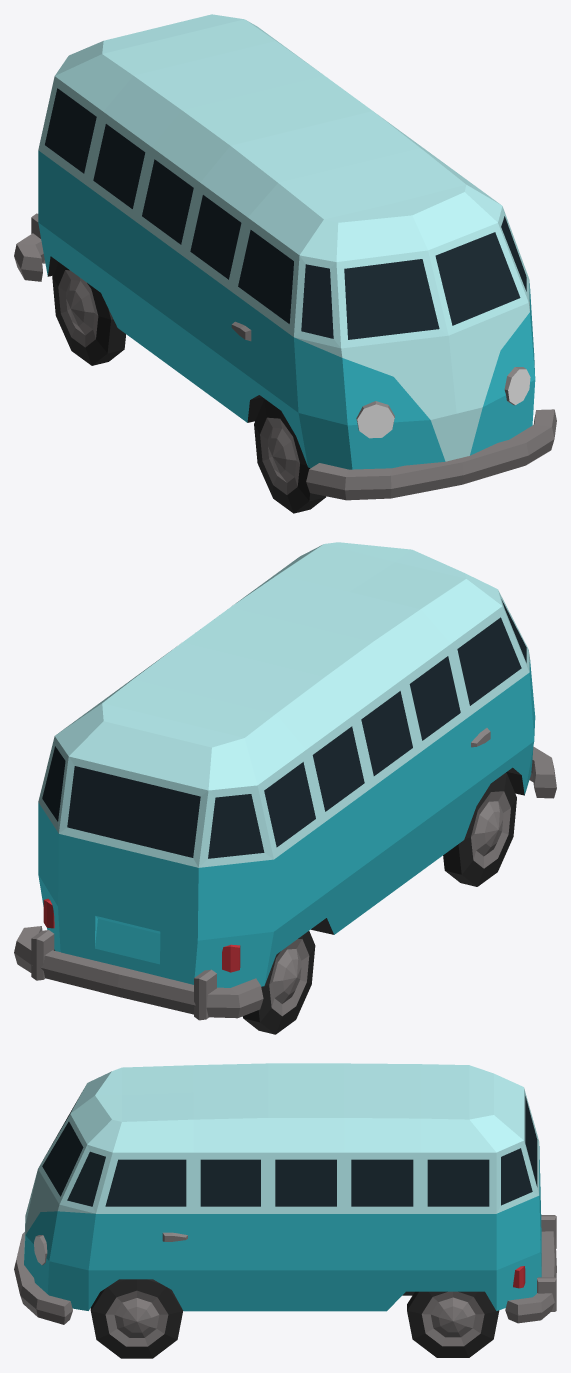
The model's file is car-hippie-van.glb.
The picture shows the model from 3 angles, top to bottom: view 1: azimuth 30°, elevation 25°; view 2: azimuth 150°, elevation 25°; view 3: azimuth 270°, elevation 25°; orthographic projection. The views are drawn at different scales.
Visible parts, largest first — view 1: car-hippie-van-base, car-hippie-van-wheel_BR, car-hippie-van-wheel_FR; view 2: car-hippie-van-base, car-hippie-van-wheel_FR, car-hippie-van-wheel_BR; view 3: car-hippie-van-base, car-hippie-van-wheel_FL, car-hippie-van-wheel_BL.
Boxes of the visible parts, x1,y1,x2,y2 form: car-hippie-van-base: (14, 14, 556, 500); car-hippie-van-wheel_BR: (52, 262, 125, 365); car-hippie-van-wheel_FR: (254, 399, 326, 513); car-hippie-van-base: (14, 542, 556, 1020); car-hippie-van-wheel_FR: (443, 773, 516, 886); car-hippie-van-wheel_BR: (242, 931, 315, 1034); car-hippie-van-base: (14, 1063, 556, 1324); car-hippie-van-wheel_FL: (90, 1279, 183, 1358); car-hippie-van-wheel_BL: (407, 1291, 499, 1357).
Bounding box in the file's own units: 1.83 × 2.03 × 4.38.
1 material, 1 textured.
